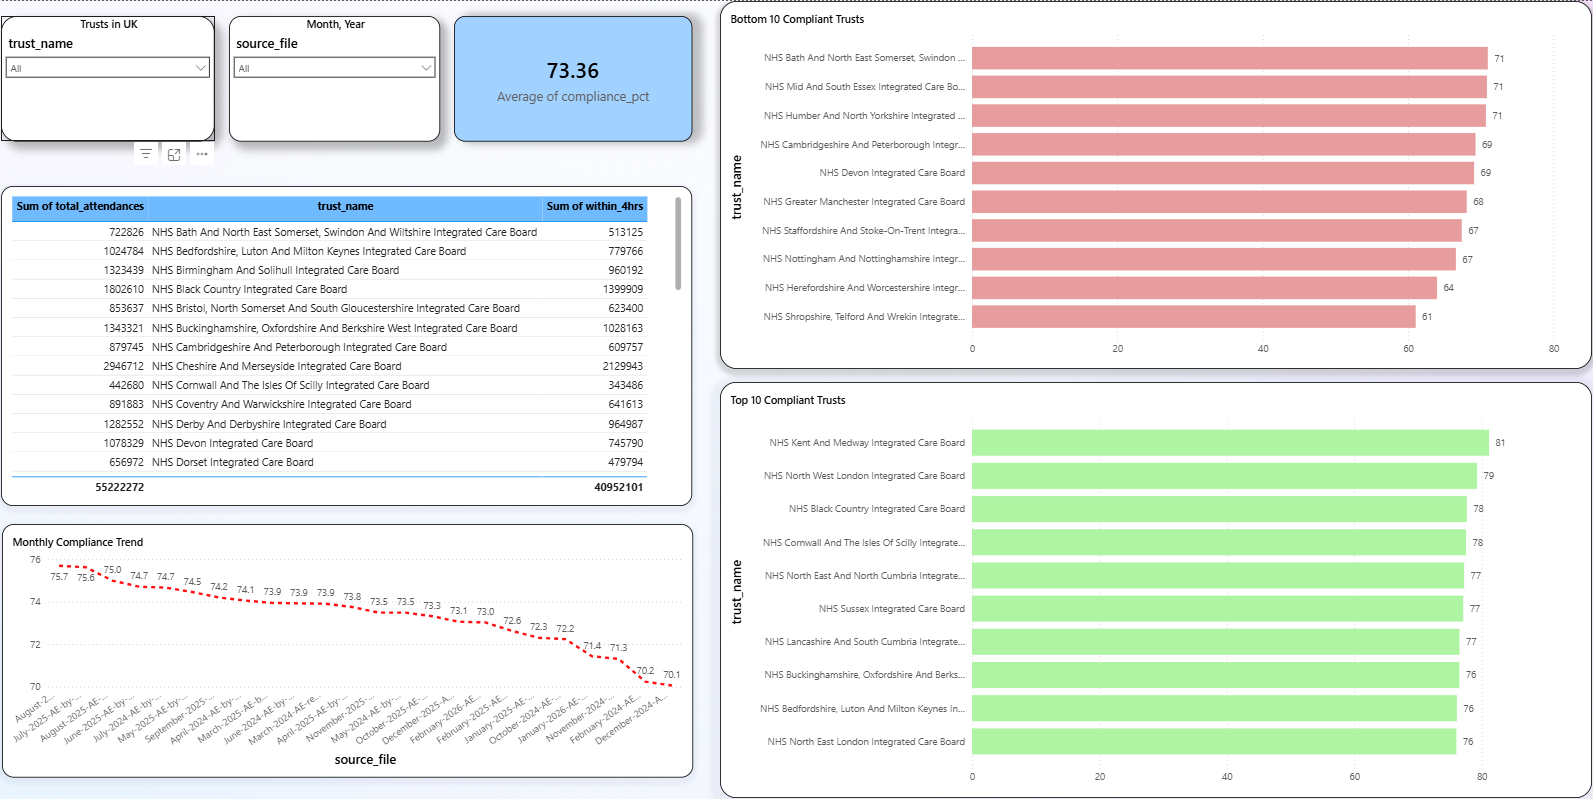

What the dashboard file says about the page in this screenshot:
{"tool":"powerbi","page":{"name":"Page 1","canvas":[2000,1000],"ordinal":0},"visuals":[{"type":"clusteredBarChart","title":"Bottom 10 Compliant Trusts","fields":{"Category":["nhs_ae_clean.trust_name"],"Y":["Avg(nhs_ae_clean.compliance_pct)"]},"box":[904.3,0,1089.7,460.5],"z":0},{"type":"tableEx","fields":{"Values":["Sum(nhs_ae_clean.total_attendances)","nhs_ae_clean.trust_name","Sum(nhs_ae_clean.within_4hrs)"]},"box":[4.9,230.7,863.8,400],"z":1000},{"type":"clusteredBarChart","title":"Top 10 Compliant Trusts","fields":{"Category":["nhs_ae_clean.trust_name"],"Y":["Avg(nhs_ae_clean.compliance_pct)"]},"box":[904.3,475.7,1089.7,519.8],"z":3000},{"type":"lineChart","title":"Monthly Compliance Trend","fields":{"Category":["nhs_ae_clean.source_file"],"Y":["Avg(nhs_ae_clean.compliance_pct)"]},"box":[6.1,654,863.8,316.6],"z":4000},{"type":"slicer","title":"Trusts in UK","fields":{"Values":["nhs_ae_clean.trust_name"]},"box":[4.6,18.2,267.5,156.5],"z":5000},{"type":"slicer","title":"Month, Year","fields":{"Values":["nhs_ae_clean.source_file"]},"box":[290.3,18.2,264.4,156.5],"z":6000},{"type":"card","fields":{"Values":["Avg(nhs_ae_clean.compliance_pct)"]},"box":[571.4,18.2,297.9,156.5],"z":8500}]}

Visuals, with their boxes in screenshot pixels (x1, y1, x2, y2), scaled from the page's 2000x1000 canvas onto the 1593x799 screenshot:
"Bottom 10 Compliant Trusts" clusteredBarChart: x1=720, y1=0, x2=1588, y2=368
tableEx - Sum(nhs_ae_clean.total_attendances) x nhs_ae_clean.trust_name: x1=4, y1=184, x2=692, y2=504
"Top 10 Compliant Trusts" clusteredBarChart: x1=720, y1=380, x2=1588, y2=795
"Monthly Compliance Trend" lineChart: x1=5, y1=523, x2=693, y2=776
"Trusts in UK" slicer: x1=4, y1=15, x2=217, y2=140
"Month, Year" slicer: x1=231, y1=15, x2=442, y2=140
card - Avg(nhs_ae_clean.compliance_pct): x1=455, y1=15, x2=692, y2=140
